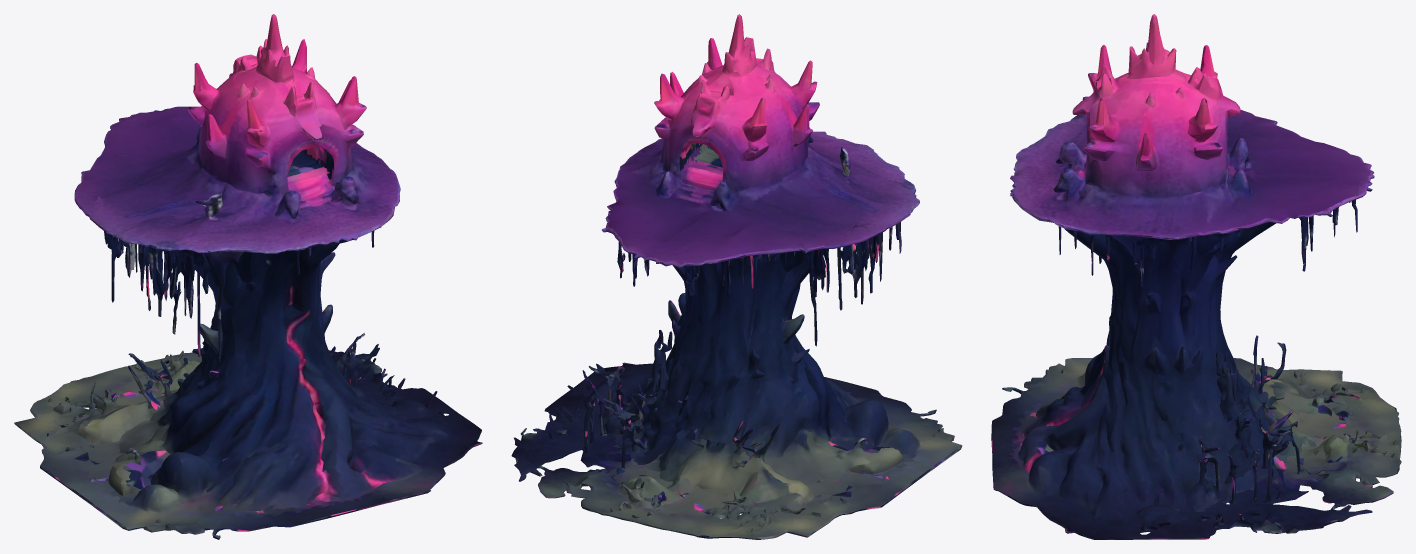
File: support-column-generated-2026-05-17T19-04-08-179Z.medium.glb
3 renders of one model, left to right at view 1: azimuth 30°, elevation 25°; view 2: azimuth 150°, elevation 25°; view 3: azimuth 270°, elevation 25°, orthographic. The views are drawn at different scales.
Parts seen in each view (by area): view 1: temp_mesh.ply; view 2: temp_mesh.ply; view 3: temp_mesh.ply.
Boxes of the visible parts, x1,y1,x2,y2 form: temp_mesh.ply: (14,14,482,539); temp_mesh.ply: (511,14,962,539); temp_mesh.ply: (991,14,1401,539).
Size of the model in its own units: 1.74 by 1.97 by 1.67.
1 material, 1 textured.
